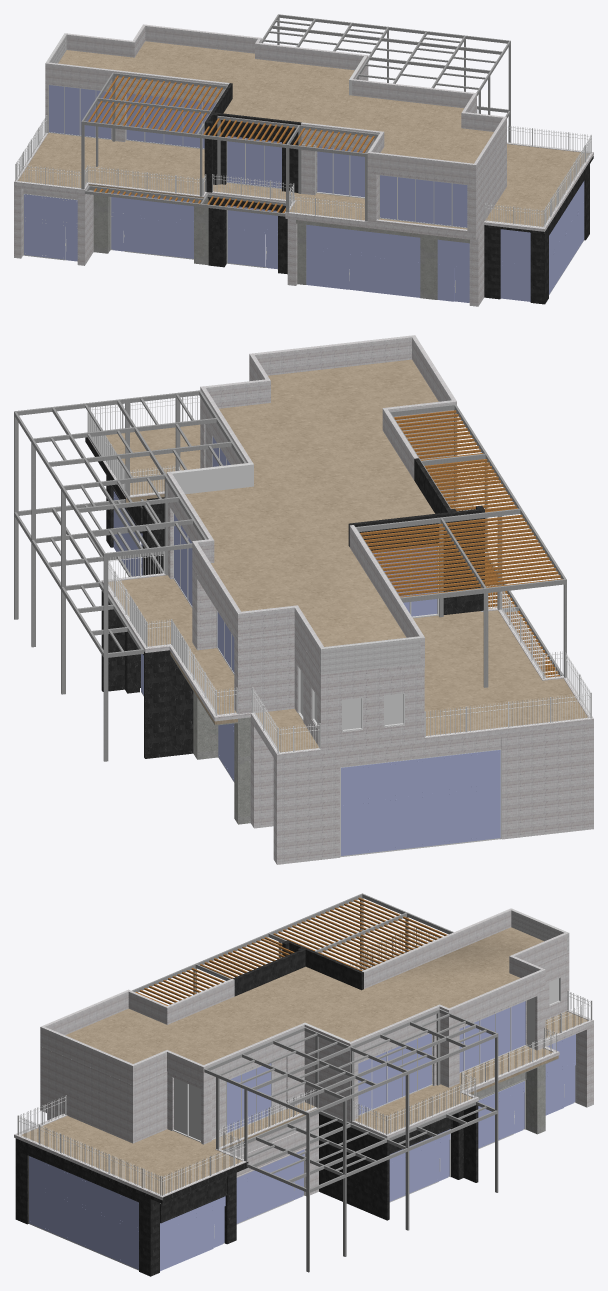
The picture shows the model from 3 angles, top to bottom: view 1: azimuth 30°, elevation 25°; view 2: azimuth 150°, elevation 25°; view 3: azimuth 270°, elevation 25°; orthographic projection. The views are drawn at different scales.
Parts seen in each view (by area): view 1: Floor SLAB- 22CM [346345], Floor SLAB- 22CM [345665], SHADE2 SHADE [398338], rail4 rail-24 [500203], Generic Models 1 Generic Models 1 [387036], Basic Wall Generic - 200mm [389871], SHADE SHADE [482465], Basic Wall Generic - 200mm [389590], Basic Wall Generic - 200mm [388615], Basic Wall Generic - 200mm [389695], Basic Wall Generic - 200mm [352996], Basic Wall Generic - 200mm [390932] (+76 smaller); view 2: Floor SLAB- 22CM [346345], SHADE2 SHADE [398338], Floor SLAB- 22CM [345665], rail4 rail-24 [500203], Basic Wall Generic - 200mm [352272], Basic Wall Generic - 200mm [346765], Basic Wall Generic - 200mm [358064], Basic Wall Generic - 200mm [388559], Generic Models 1 Generic Models 1 [387036], Basic Wall Generic - 200mm [389294], Floor SLAB- 80CM [345909].009, Basic Wall Generic - 200mm [359393] (+44 smaller); view 3: SHADE2 SHADE [398338], Floor SLAB- 22CM [346345], Floor SLAB- 22CM [345665], rail4 rail-24 [500203], Basic Wall Generic - 200mm [352996], Basic Wall Generic - 200mm [348457], Generic Models 1 Generic Models 1 [387036], Basic Wall Generic - 90mm Brick [424545], Basic Wall Generic - 200mm [360743], Basic Wall Generic - 200mm [388559], Basic Wall Generic - 200mm [389590], Basic Wall Generic - 200mm [389151] (+67 smaller).
Boxes of the visible parts, bbox=[...] form: Floor SLAB- 22CM [346345]: bbox=[58, 41, 493, 185]; Floor SLAB- 22CM [345665]: bbox=[14, 133, 593, 239]; SHADE2 SHADE [398338]: bbox=[81, 14, 510, 221]; rail4 rail-24 [500203]: bbox=[16, 115, 591, 227]; Generic Models 1 Generic Models 1 [387036]: bbox=[14, 133, 593, 236]; Basic Wall Generic - 200mm [389871]: bbox=[352, 79, 476, 109]; SHADE SHADE [482465]: bbox=[85, 185, 285, 216]; Basic Wall Generic - 200mm [389590]: bbox=[145, 24, 261, 53]; Basic Wall Generic - 200mm [388615]: bbox=[367, 151, 473, 179]; Basic Wall Generic - 200mm [389695]: bbox=[258, 43, 367, 70]; Basic Wall Generic - 200mm [352996]: bbox=[473, 136, 505, 234]; Basic Wall Generic - 200mm [390932]: bbox=[45, 62, 111, 91]; Floor SLAB- 22CM [346345]: bbox=[170, 359, 453, 671]; SHADE2 SHADE [398338]: bbox=[14, 390, 566, 761]; Floor SLAB- 22CM [345665]: bbox=[85, 424, 593, 762]; rail4 rail-24 [500203]: bbox=[88, 395, 591, 753]; Basic Wall Generic - 200mm [352272]: bbox=[501, 723, 589, 839]; Basic Wall Generic - 200mm [346765]: bbox=[281, 751, 339, 864]; Basic Wall Generic - 200mm [358064]: bbox=[325, 668, 383, 752]; Basic Wall Generic - 200mm [388559]: bbox=[249, 335, 415, 379]; Generic Models 1 Generic Models 1 [387036]: bbox=[86, 419, 593, 755]; Basic Wall Generic - 200mm [389294]: bbox=[320, 636, 420, 674]; Floor SLAB- 80CM [345909].009: bbox=[340, 733, 501, 767]; Basic Wall Generic - 200mm [359393]: bbox=[261, 633, 294, 712]; SHADE2 SHADE [398338]: bbox=[132, 893, 498, 1272]; Floor SLAB- 22CM [346345]: bbox=[65, 927, 545, 1089]; Floor SLAB- 22CM [345665]: bbox=[15, 948, 593, 1203]; rail4 rail-24 [500203]: bbox=[18, 927, 591, 1196]; Basic Wall Generic - 200mm [352996]: bbox=[40, 1046, 130, 1142]; Basic Wall Generic - 200mm [348457]: bbox=[319, 1114, 389, 1220]; Generic Models 1 Generic Models 1 [387036]: bbox=[14, 945, 593, 1199]; Basic Wall Generic - 90mm Brick [424545]: bbox=[304, 1024, 350, 1121]; Basic Wall Generic - 200mm [360743]: bbox=[130, 1071, 167, 1143]; Basic Wall Generic - 200mm [388559]: bbox=[40, 1026, 135, 1085]; Basic Wall Generic - 200mm [389590]: bbox=[446, 970, 543, 1027]; Basic Wall Generic - 200mm [389151]: bbox=[362, 931, 459, 988].
Size of the model in its own units: 35.88 by 10.73 by 34.86.
Materials: 9 (7 with a texture image).
